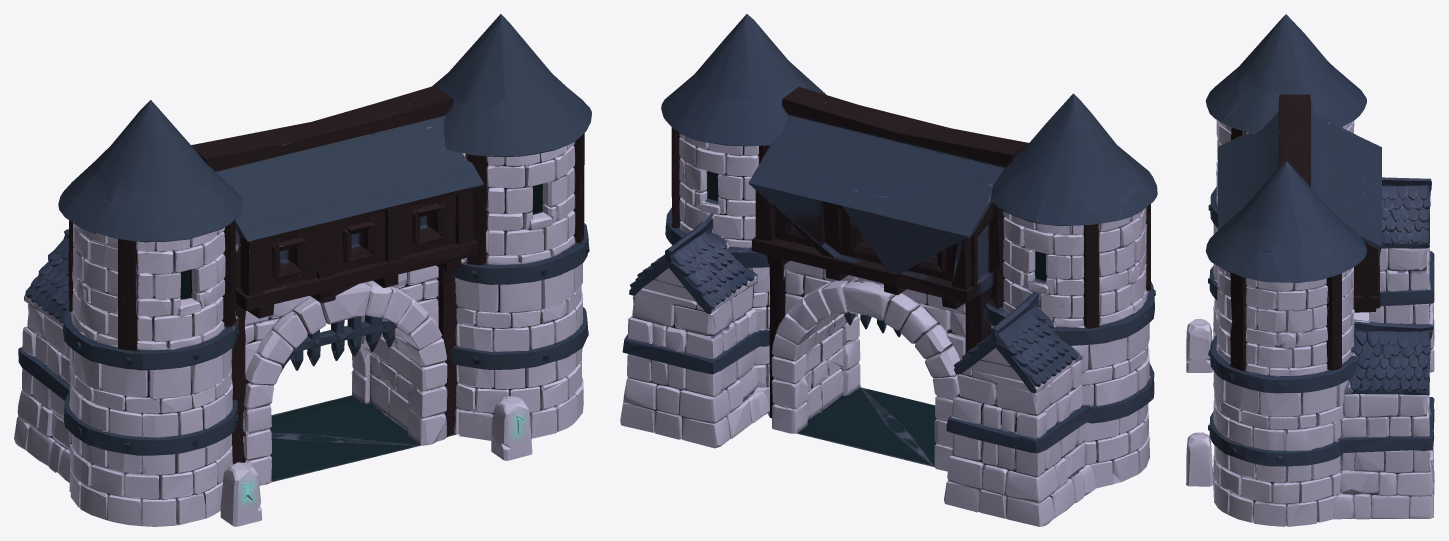
The model's file is body.glb.
3 renders of one model, left to right at view 1: azimuth 30°, elevation 25°; view 2: azimuth 150°, elevation 25°; view 3: azimuth 270°, elevation 25°, orthographic. The views are drawn at different scales.
Size of the model in its own units: 1.9 by 1.4 by 0.9375.
1 material, 1 textured.
